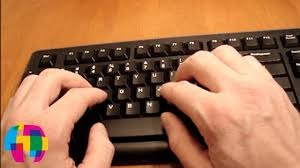keyboard: (3, 8, 296, 161)
